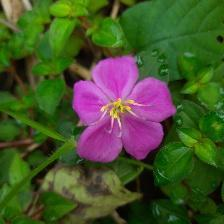malabar melastome: (70, 57, 180, 163)
